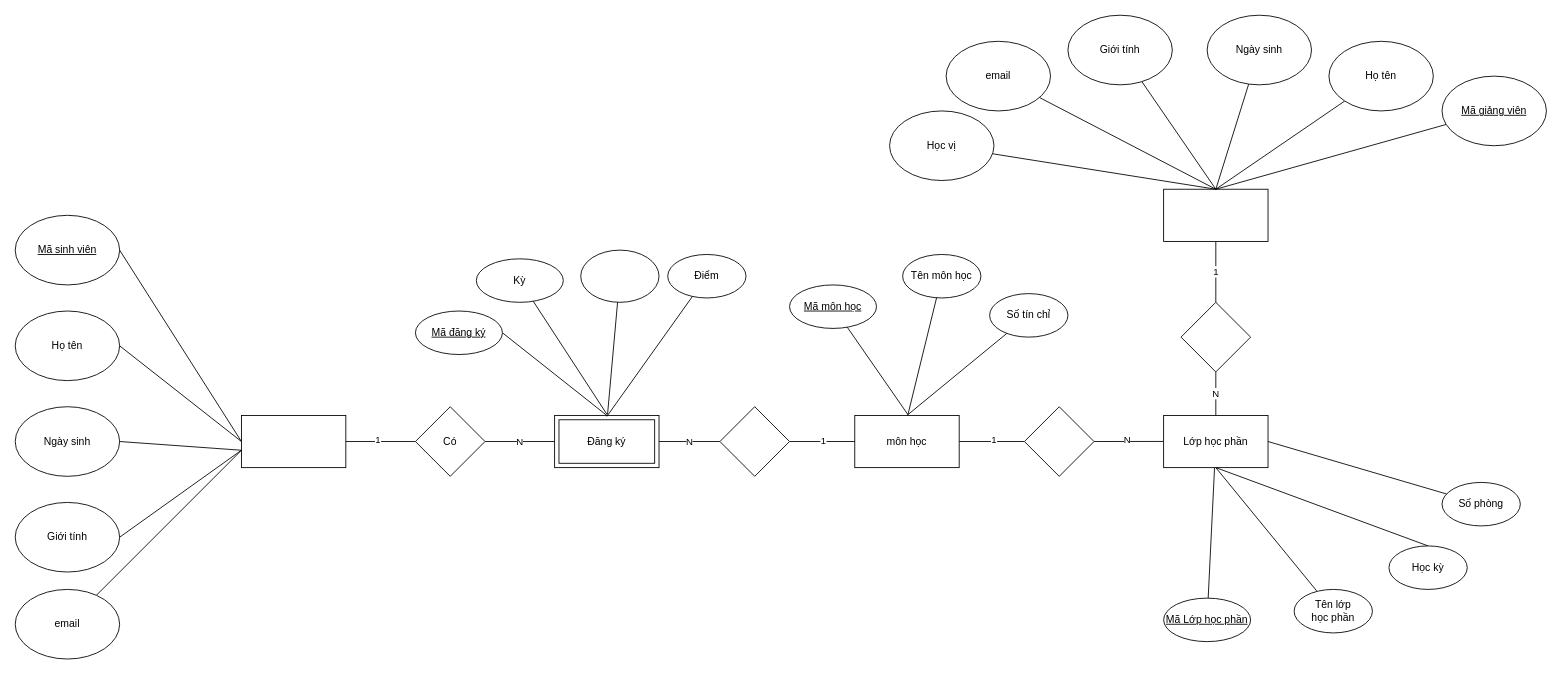
The diagram is 1562 pixels wide and 674 high, and some of its shapes have lost their labels. Each missing label, with the centre of its shape:
Chia thành: point 1059,441
Giảng: point 1215,336
Giảng viên: point 1215,214
Lần đăng ký: point 619,275
Sinh Viên: point 293,441
Được: point 754,441
